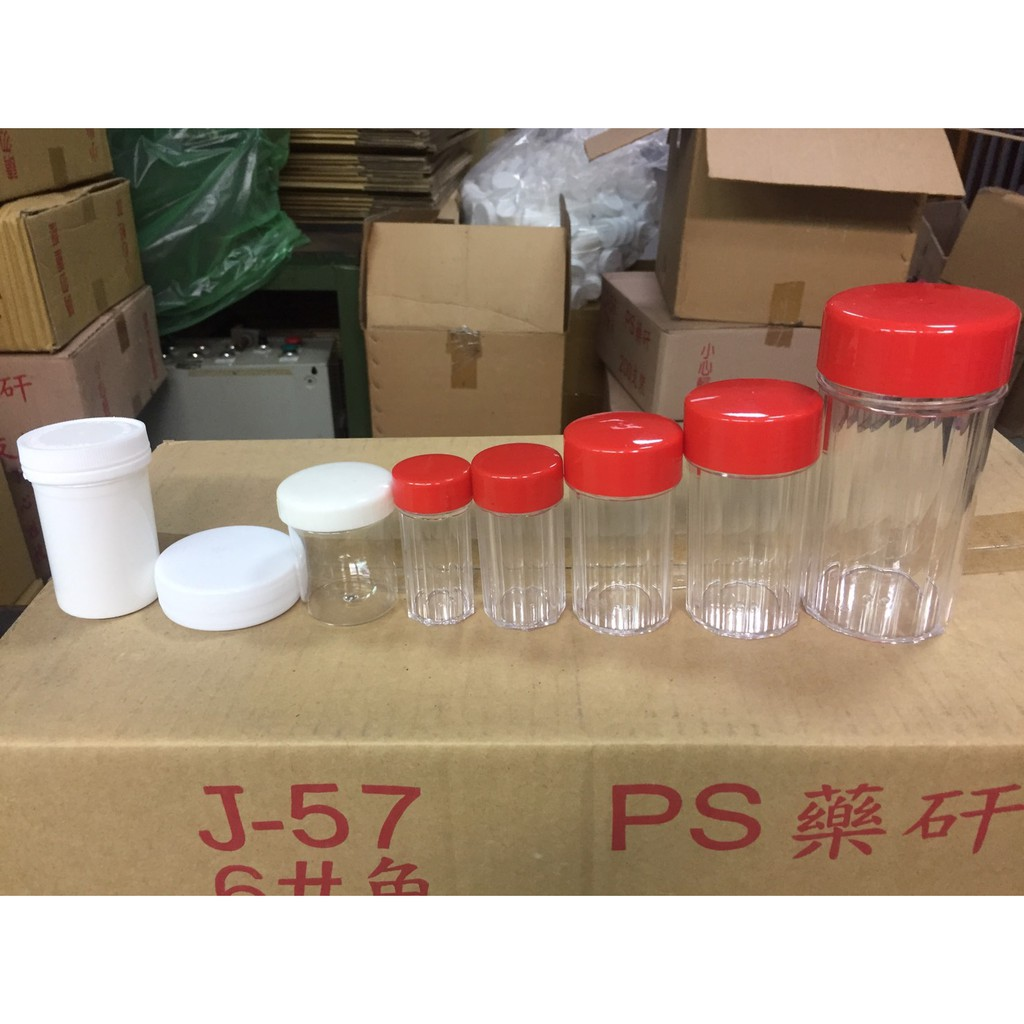medicinejar: (814, 290, 1001, 645), (685, 376, 814, 652), (565, 406, 690, 649), (24, 420, 165, 620), (280, 464, 411, 654), (474, 422, 575, 637), (389, 439, 479, 620)
